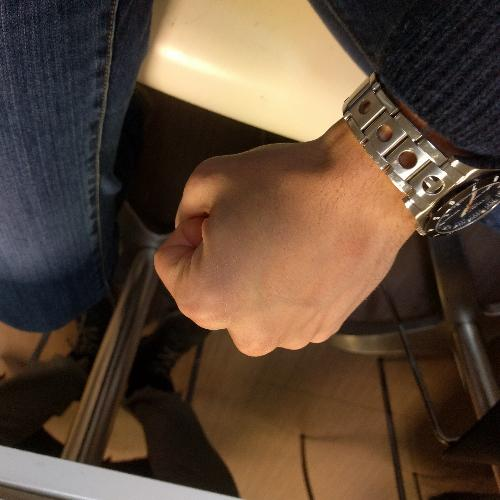rock: (148, 134, 400, 367)
